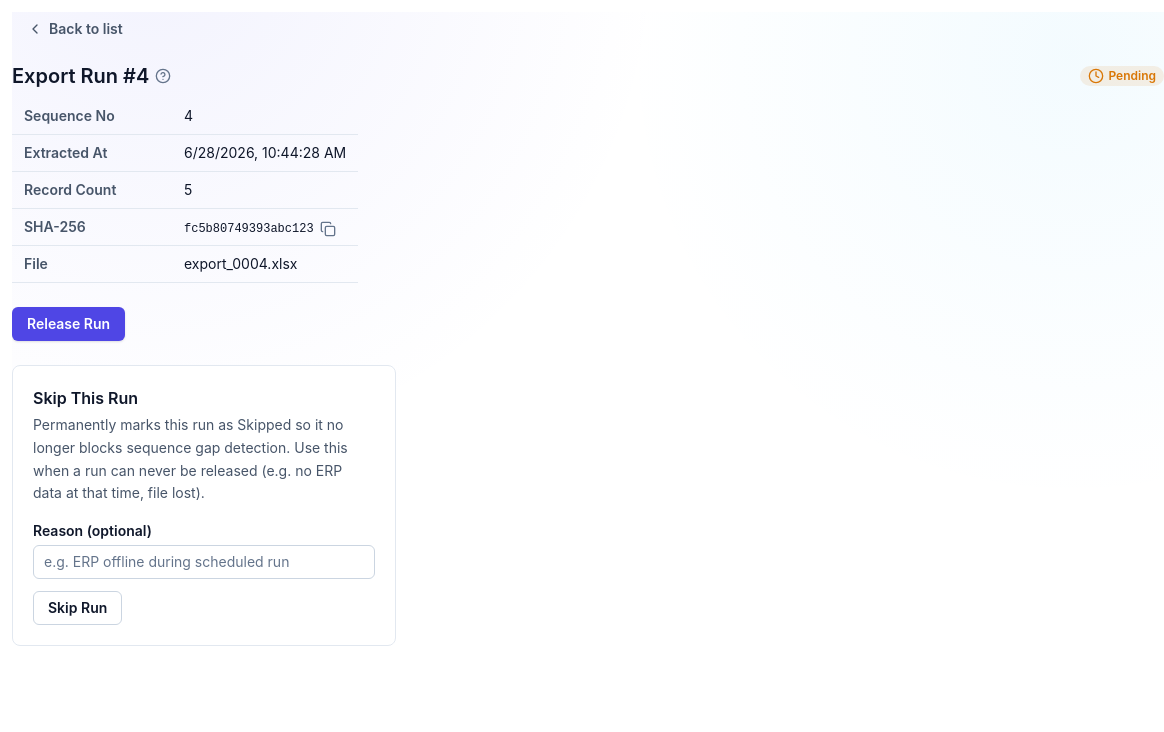
Scenario: ExportDetail › shows error message when skipExport fails
Click the button "Skip Run".
click(78, 608)  # box [33,591,122,625]
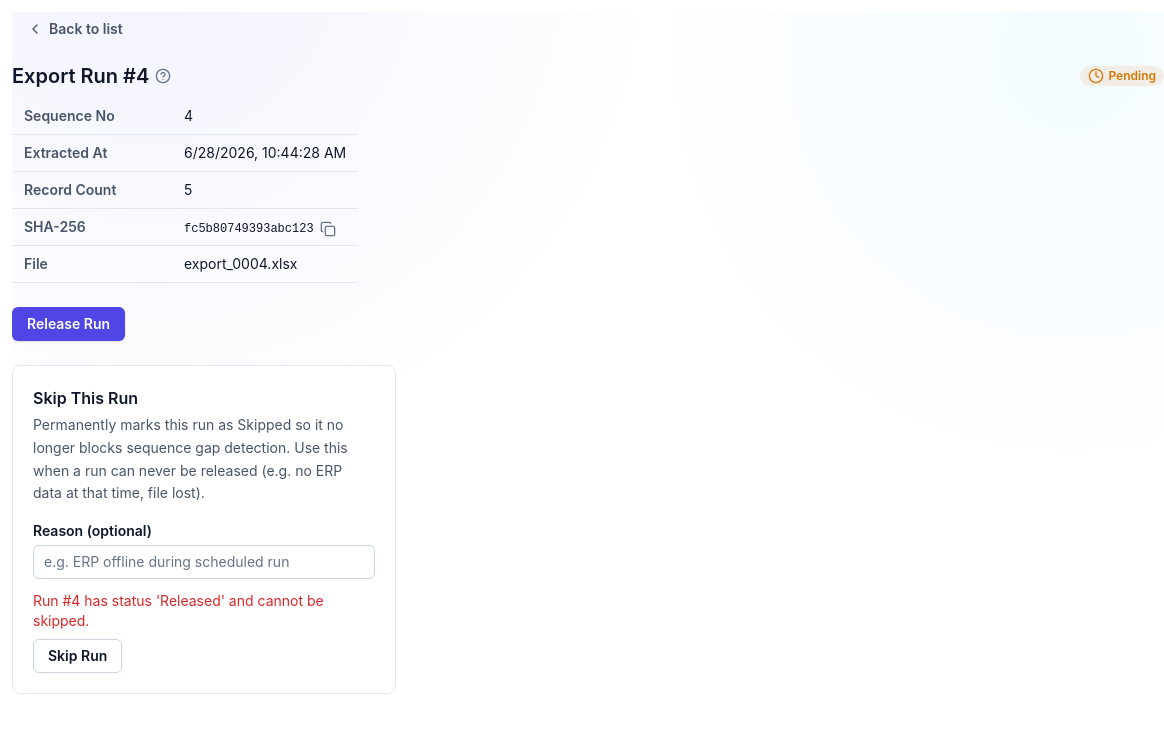
Expected: the text "cannot be skipped" is shown, [33,592,324,629]
